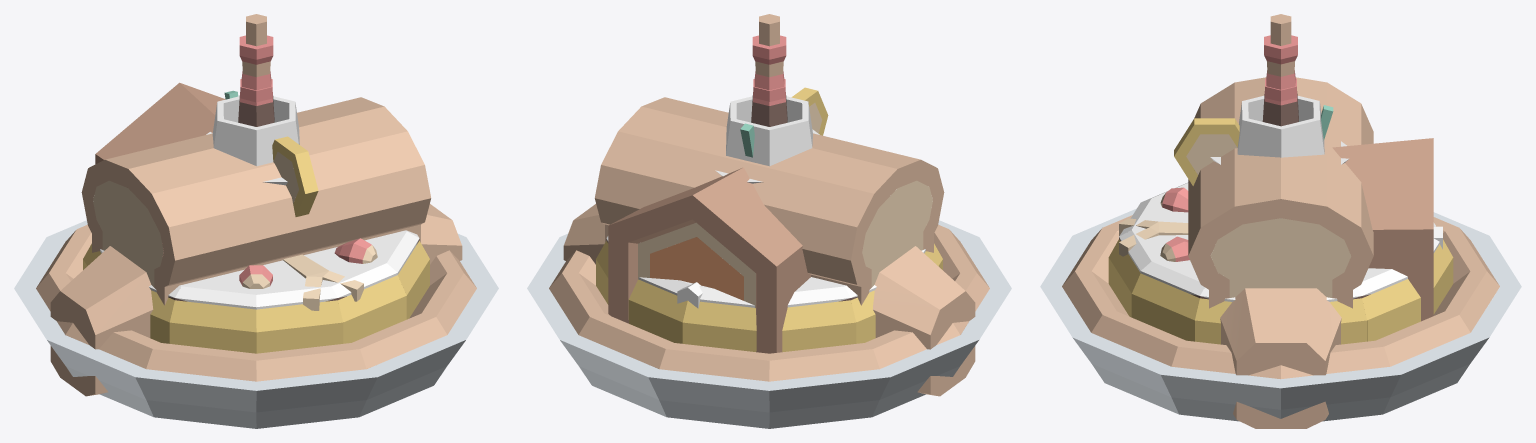
File: kenney-goods.glb
3 renders of one model, left to right at view 1: azimuth 30°, elevation 25°; view 2: azimuth 150°, elevation 25°; view 3: azimuth 270°, elevation 25°, orthographic.
Parts seen in each view (by area): view 1: loaf, pie, wedge (×5), loaf-baguette, slice (×2), whole-ham, glass-wine, wine-red, lemon; view 2: pie, loaf, whole-ham, wedge (×5), loaf-baguette, glass-wine, wine-red, slice (×2), lemon; view 3: pie, loaf, whole-ham, loaf-baguette, wedge (×6), slice (×3), glass-wine, wine-red, lemon.
Boxes of the visible parts, x1,y1,x2,y2 form: loaf: (81, 97, 431, 305); pie: (14, 220, 498, 428); wedge (×5): (150, 241, 429, 353); loaf-baguette: (50, 204, 462, 396); slice (×2): (175, 231, 419, 309); whole-ham: (95, 82, 363, 310); glass-wine: (212, 96, 299, 166); wine-red: (238, 14, 274, 126); lemon: (272, 136, 318, 216); pie: (527, 220, 1011, 428); loaf: (594, 97, 944, 305); whole-ham: (608, 167, 810, 353); wedge (×5): (596, 241, 875, 352); loaf-baguette: (563, 204, 975, 396); glass-wine: (726, 96, 812, 166); wine-red: (751, 14, 787, 126); slice (×2): (606, 237, 850, 307); lemon: (791, 87, 828, 135); pie: (1040, 208, 1521, 421); loaf: (1188, 77, 1373, 308); whole-ham: (1119, 138, 1442, 321); loaf-baguette: (1220, 288, 1341, 428); wedge (×6): (1108, 239, 1453, 344); slice (×3): (1119, 182, 1439, 297); glass-wine: (1237, 95, 1324, 157); wine-red: (1262, 14, 1298, 126); lemon: (1174, 118, 1239, 185).
Bounding box in the file's own units: 0.9504 × 0.7205 × 0.9504.
